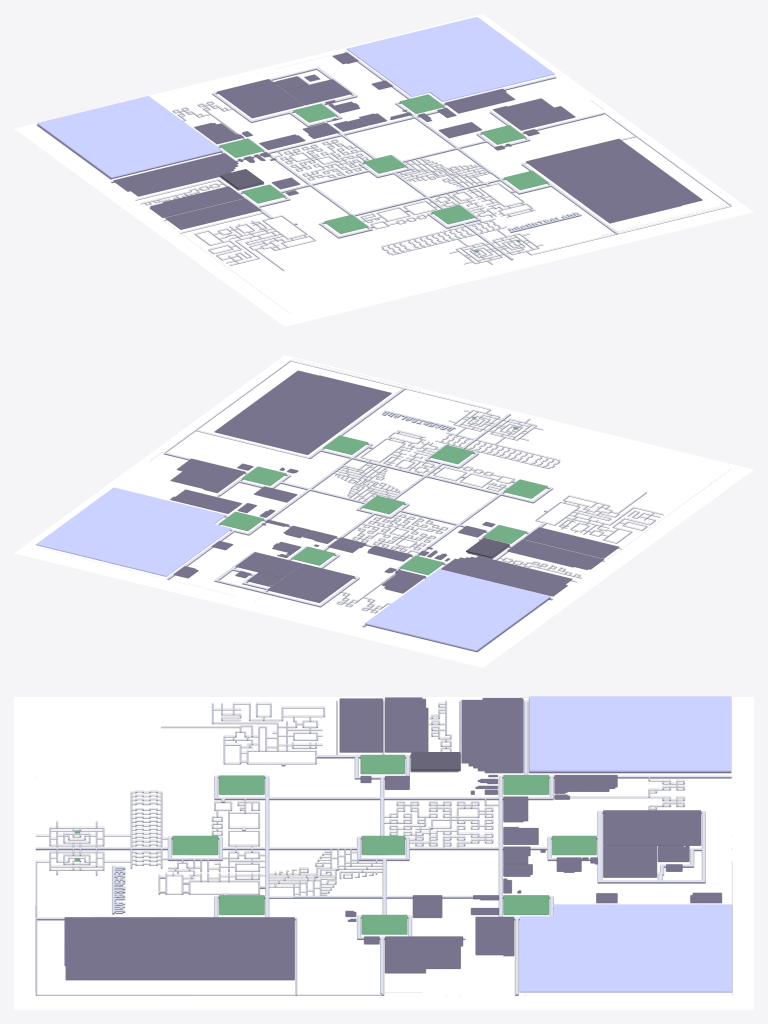
File: dcl_map.glb
The picture shows the model from 3 angles, top to bottom: view 1: azimuth 30°, elevation 25°; view 2: azimuth 150°, elevation 25°; view 3: azimuth 270°, elevation 25°; orthographic projection. The views are drawn at different scales.
Visible parts, largest first — view 1: Plane.001, DISTRICTS, road TOP, Box, road shadow, Cube.001, DISTRICTS.001, Cube.002; view 2: Plane.001, DISTRICTS, road TOP, Box, road shadow, Cube.001, DISTRICTS.001, Cube.002; view 3: Plane.001, DISTRICTS, road TOP, Box, Cube.001, road shadow, DISTRICTS.001, Cube.002.
Boxes of the visible parts, x1,y1,x2,y2 form: Plane.001: (14, 14, 753, 326); DISTRICTS: (37, 52, 702, 251); road TOP: (111, 51, 731, 269); Box: (346, 17, 554, 101); road shadow: (111, 52, 731, 270); Cube.001: (37, 96, 222, 177); DISTRICTS.001: (37, 56, 702, 252); Cube.002: (220, 169, 263, 189); Plane.001: (14, 355, 753, 667); DISTRICTS: (170, 370, 618, 651); road TOP: (163, 360, 663, 626); Box: (36, 487, 231, 576); road shadow: (163, 361, 663, 627); Cube.001: (365, 569, 550, 650); DISTRICTS.001: (170, 393, 618, 652); Cube.002: (466, 538, 509, 557); Plane.001: (14, 697, 753, 1009); DISTRICTS: (64, 697, 732, 990); road TOP: (35, 700, 731, 994); Box: (519, 904, 731, 992); Cube.001: (529, 696, 731, 771); road shadow: (35, 702, 731, 995); DISTRICTS.001: (64, 700, 731, 992); Cube.002: (411, 752, 460, 770).
Size of the model in its own units: 17 by 0.274 by 17.
7 materials, 6 textured.
